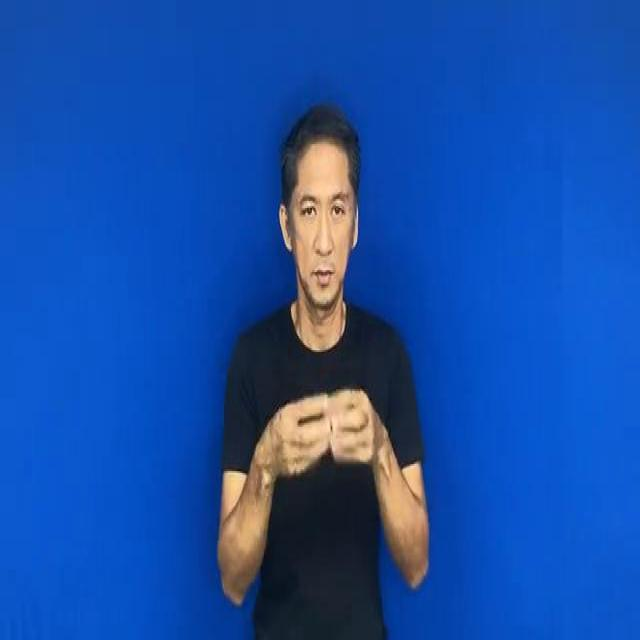egg: (226, 363, 392, 486)
